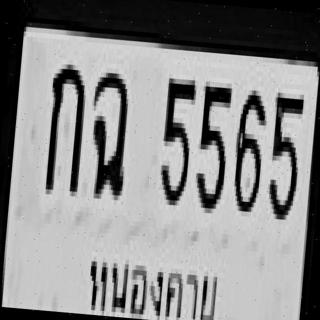A01: (42, 58, 87, 192)
A09: (84, 67, 130, 195)
N05: (191, 76, 231, 209), (157, 73, 196, 201), (264, 87, 302, 215)
N06: (228, 84, 265, 212)
P36: (78, 232, 226, 320)
